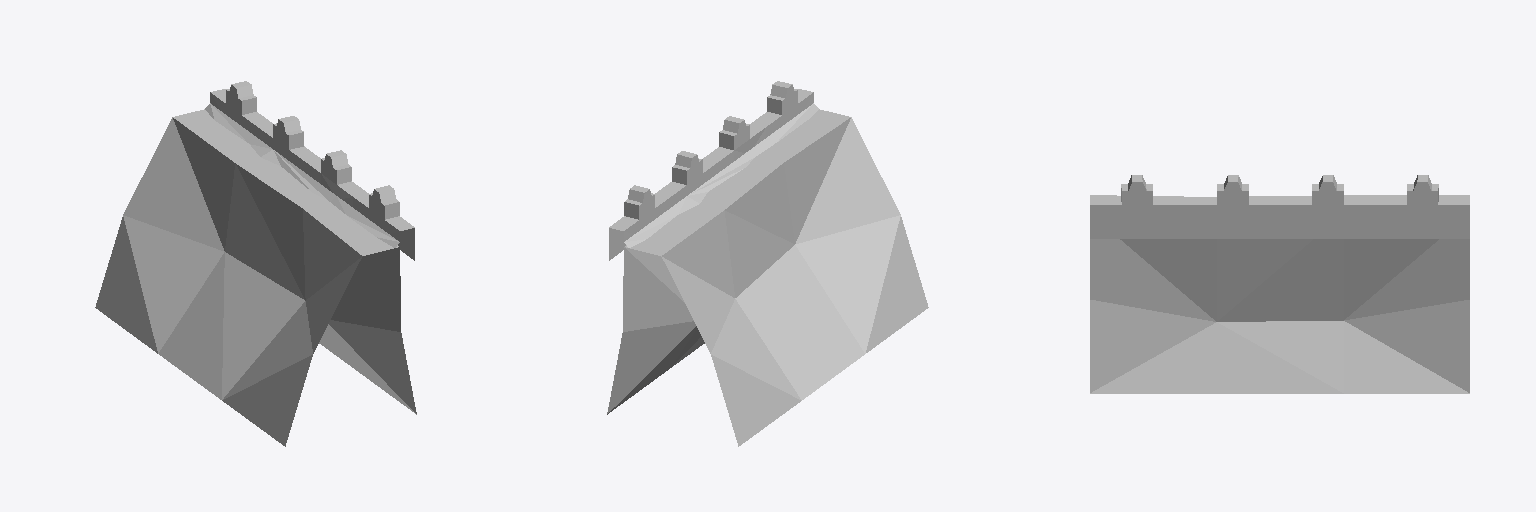
File: templeStraightNarrowLongLeftVert_prefab.obj
The picture shows the model from 3 angles: view 1: azimuth 30°, elevation 25°; view 2: azimuth 150°, elevation 25°; view 3: azimuth 270°, elevation 25°; orthographic projection.
Visible parts, largest first — view 1: Object237-Pivot; view 2: Object237-Pivot; view 3: Object237-Pivot.
Boxes of the visible parts, <box> form: Object237-Pivot: <box>95,81,416,446</box>; Object237-Pivot: <box>607,81,928,446</box>; Object237-Pivot: <box>1090,175,1469,393</box>.
Bounding box in the file's own units: 24.07 × 36.77 × 60.17.